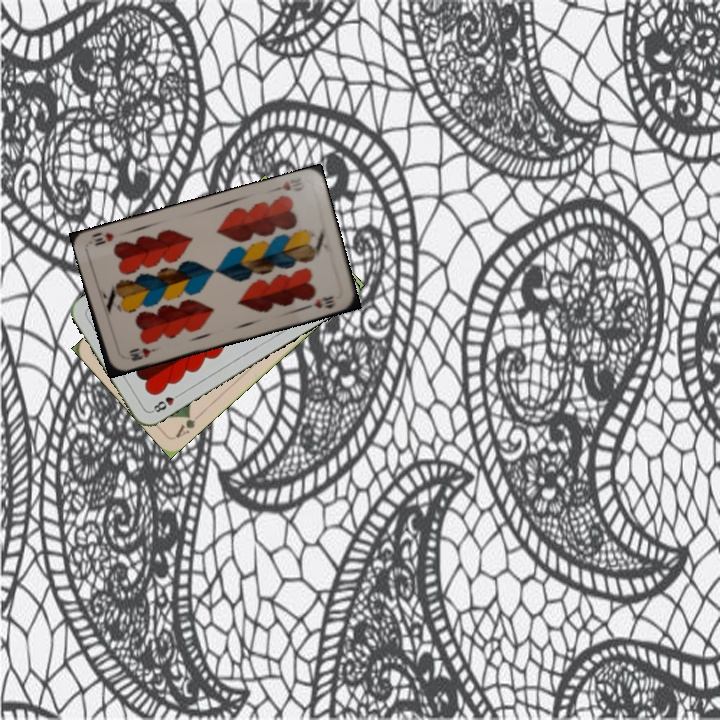GA: (171, 410, 205, 441)
H10: (124, 344, 160, 364), (268, 177, 307, 194)
H8: (147, 389, 184, 415)
